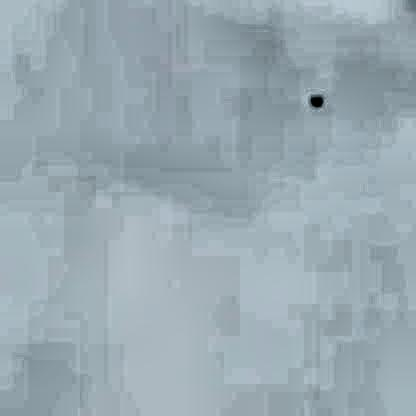golfball: (305, 93, 323, 106)
